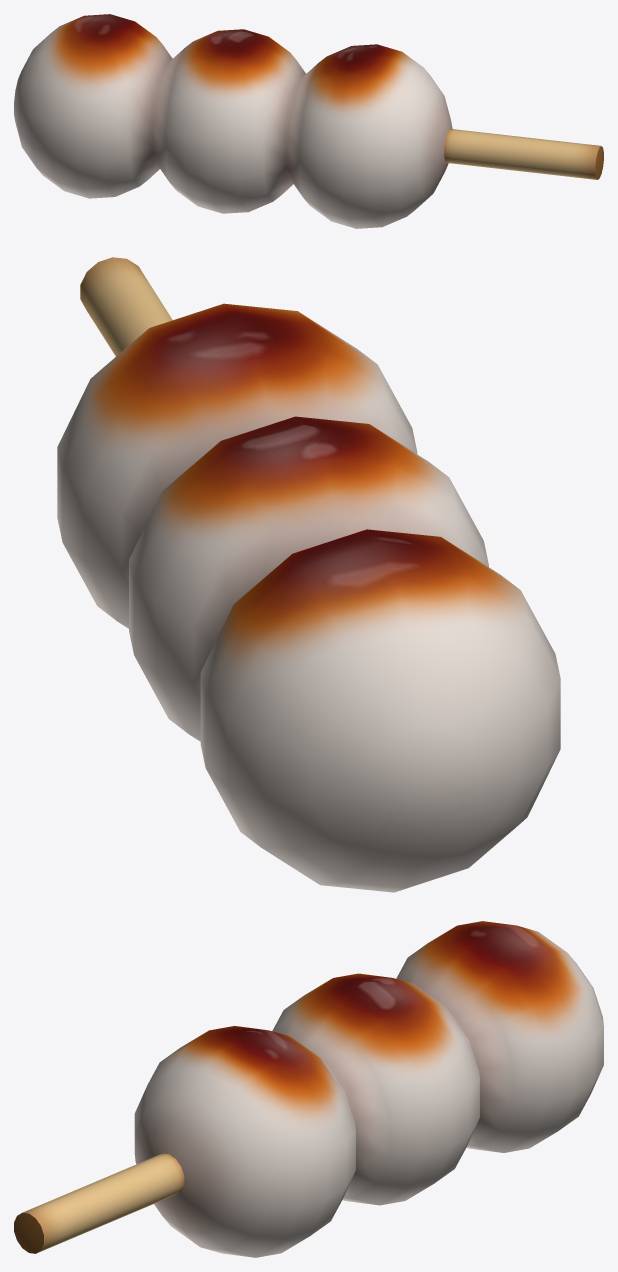
The model's file is 010-Dango_04.FBX.
3 renders of one model, top to bottom at view 1: azimuth 30°, elevation 25°; view 2: azimuth 150°, elevation 25°; view 3: azimuth 270°, elevation 25°, orthographic. The views are drawn at different scales.
Visible parts, largest first — view 1: 010-Dango_04; view 2: 010-Dango_04; view 3: 010-Dango_04.
Part boxes in pixels (box(x1,y1,x2,y2)): 010-Dango_04: box(14, 14, 603, 228); 010-Dango_04: box(57, 257, 560, 892); 010-Dango_04: box(14, 921, 603, 1257).
Size of the model in its own units: 20.66 by 8.25 by 20.66.
